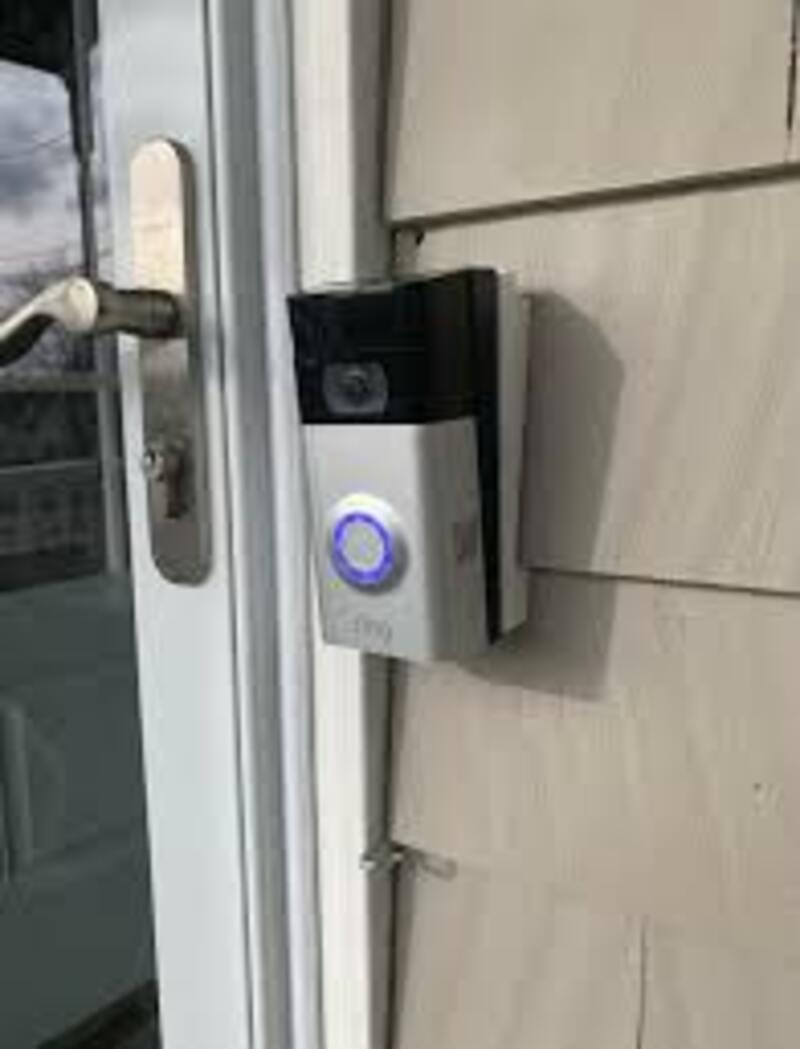doorbell: (277, 265, 518, 673)
